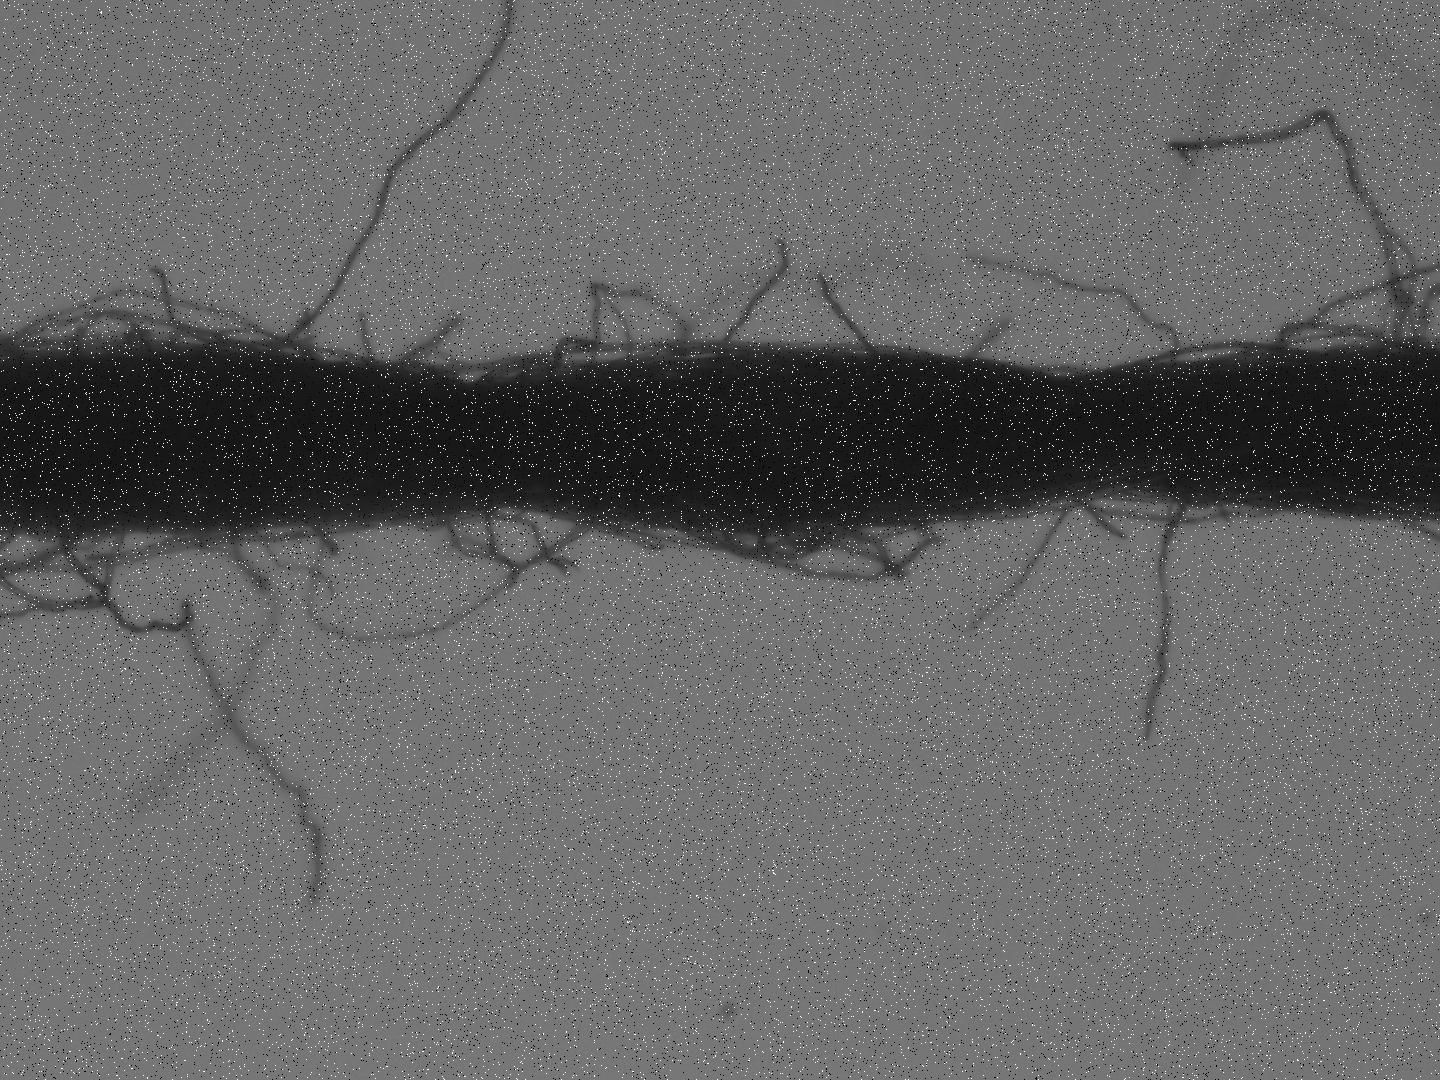loop_fiber: (308, 513, 515, 639), (11, 285, 308, 360), (973, 252, 1166, 341), (2, 515, 125, 614), (446, 501, 598, 567), (12, 310, 226, 356), (446, 343, 658, 388), (587, 281, 687, 364), (1070, 496, 1268, 521), (1126, 340, 1286, 370), (478, 349, 583, 388), (1278, 320, 1397, 353), (69, 306, 142, 355), (721, 521, 804, 552), (779, 516, 857, 545), (761, 518, 806, 557), (410, 346, 460, 365)
protruding_fiber: (48, 518, 320, 909), (269, 1, 516, 351), (1170, 113, 1411, 345), (966, 501, 1070, 627), (1140, 501, 1188, 735), (718, 241, 786, 351), (815, 264, 873, 356), (965, 317, 1017, 362), (357, 310, 370, 360)
